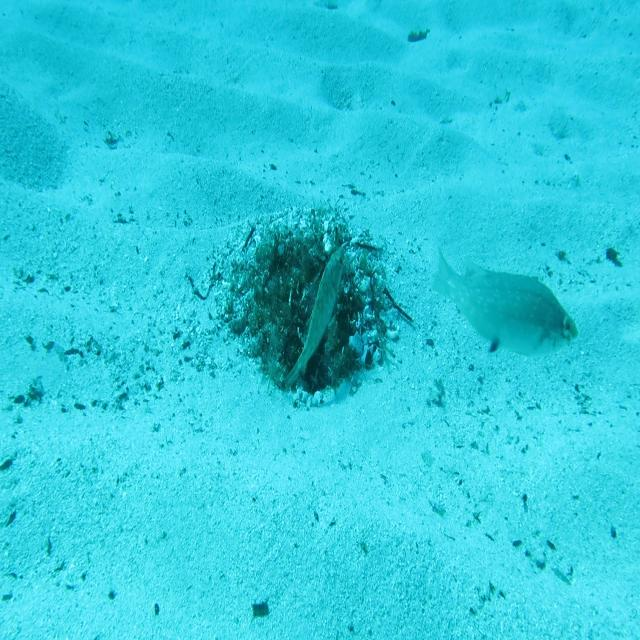FAN: (282, 244, 346, 396)
core_nest: (280, 247, 326, 284)
female: (430, 242, 580, 365)
nest: (206, 196, 404, 427)
vegetation: (605, 247, 626, 273), (252, 603, 271, 624), (408, 28, 430, 44)
